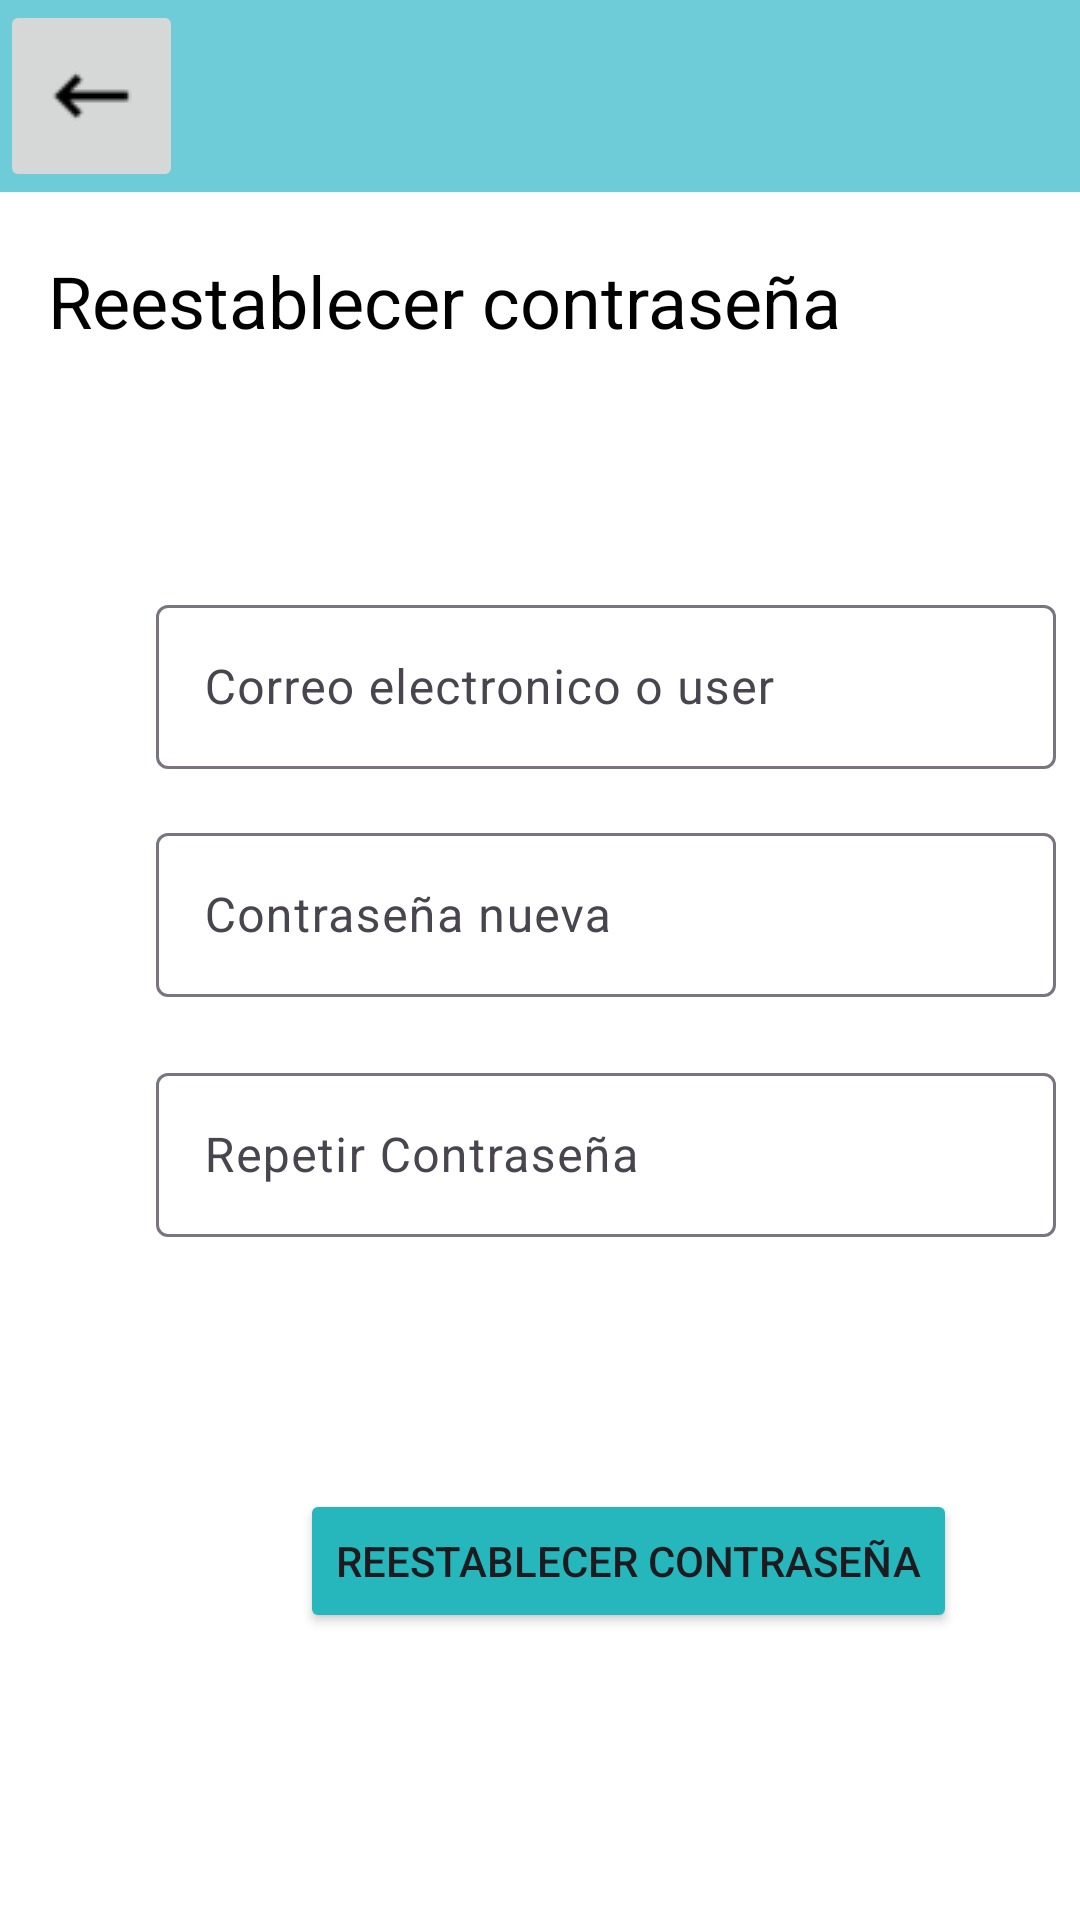

Screen size 1080px x 1920px. Icon name, then its box in pixels as (x1, y1, x2, y2):
flecha regreso: (12, 18, 171, 174)
